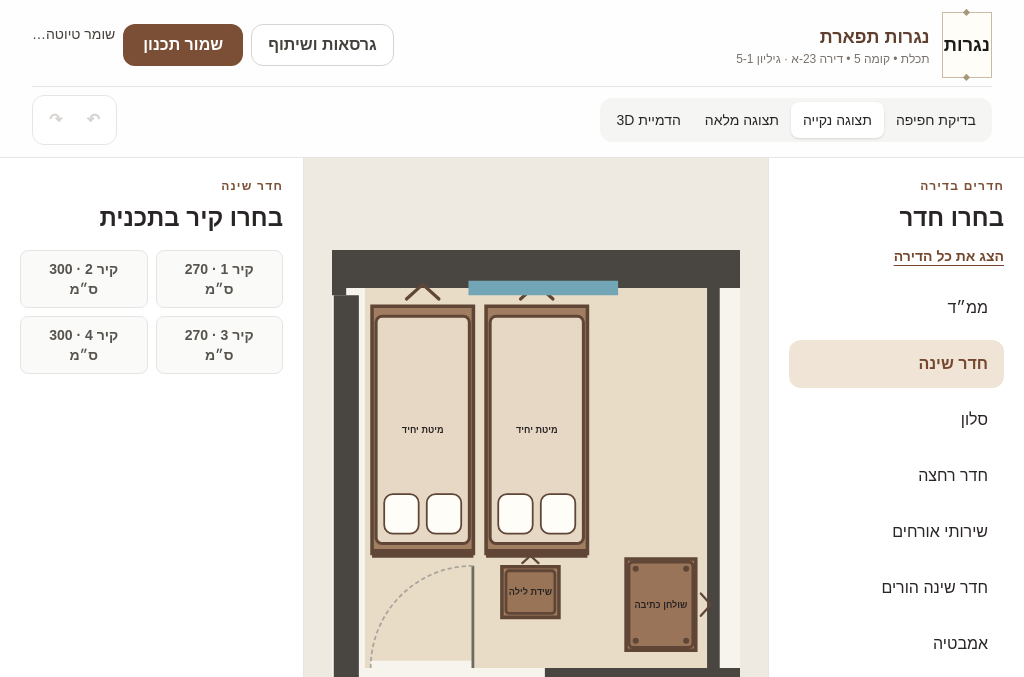
Tiferet planner UI › שומר כמה גרסאות בשם ומציג אותן בספריית התכנון
Click the button "גרסאות ושיתוף" at x=322, y=45, box [251, 24, 394, 66]
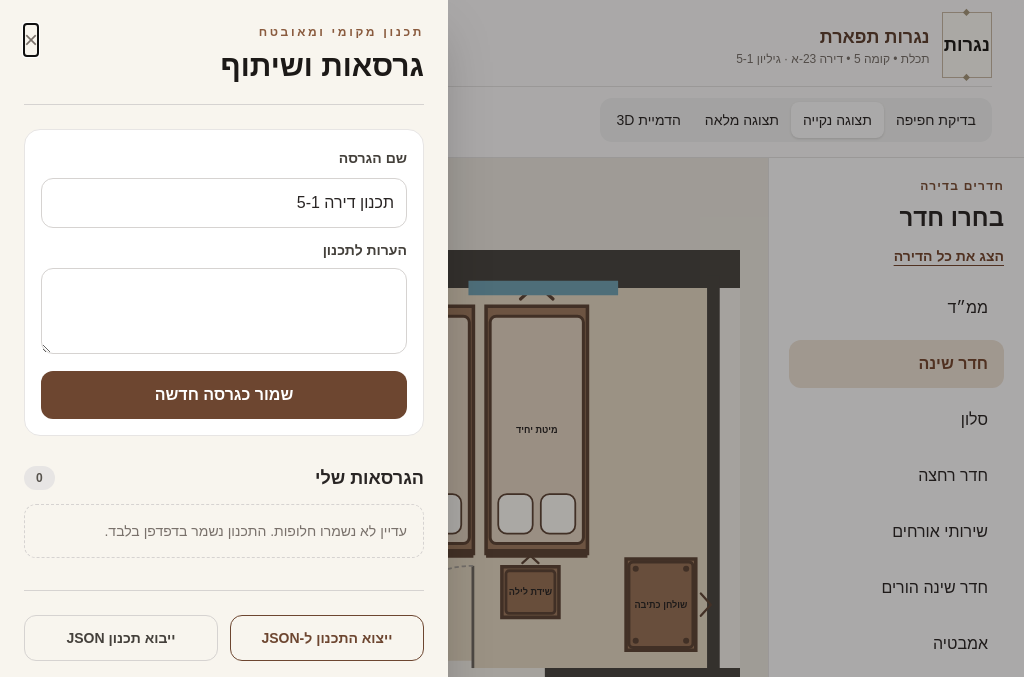
Replace the text in the field labelled "שם הגרסה" with "חלופה חמה" at x=224, y=203, box [41, 178, 407, 228]
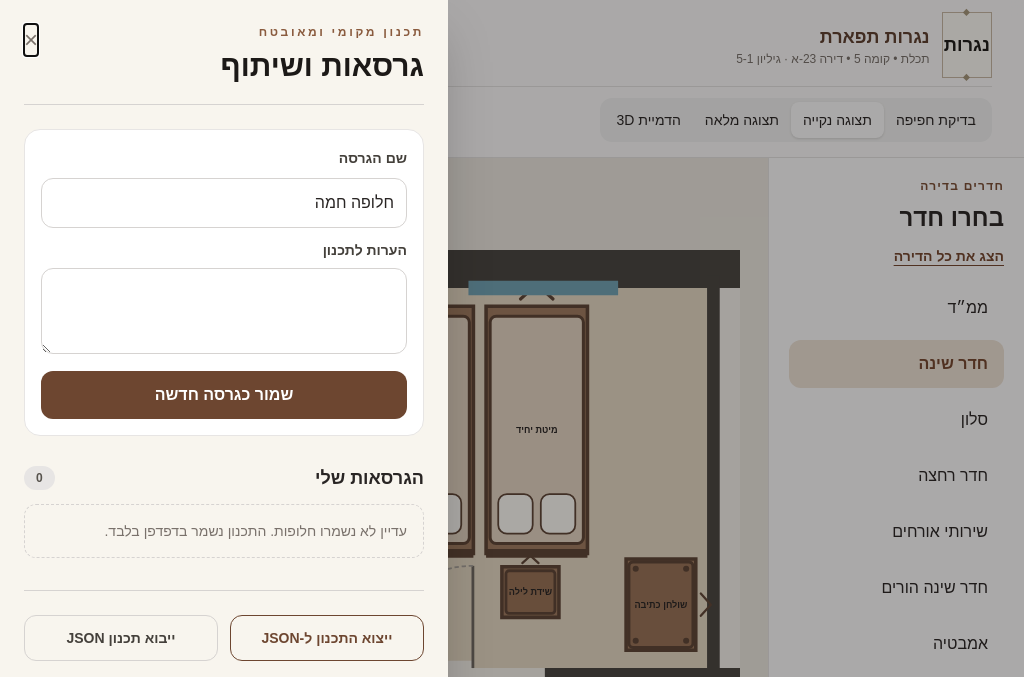
Click the button "שמור כגרסה חדשה" at x=224, y=395, box [41, 371, 407, 419]
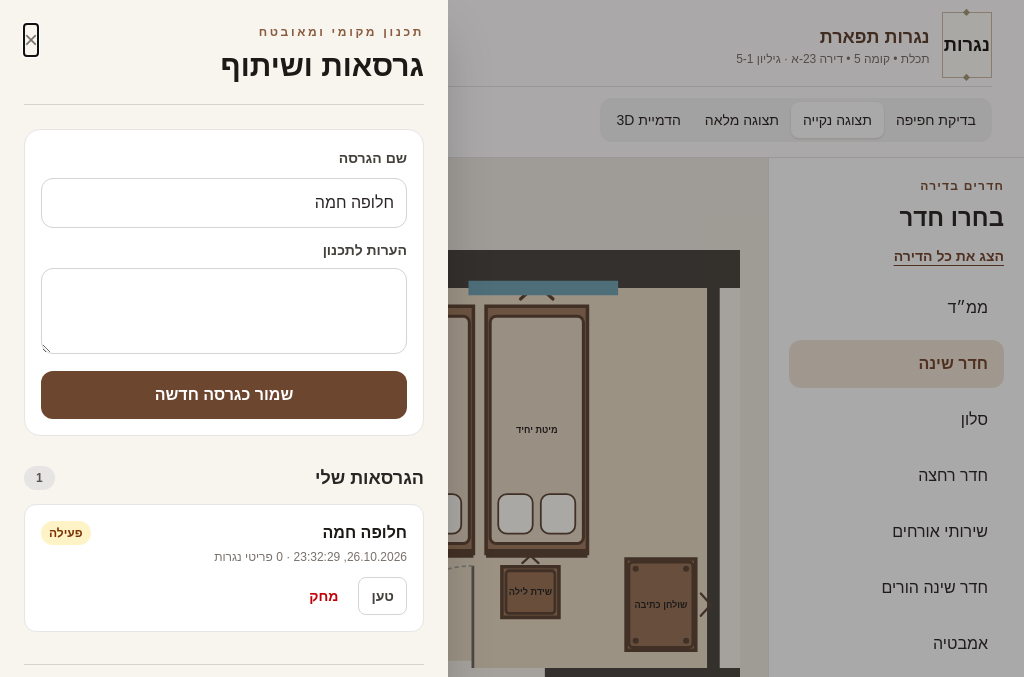
expect the text "חלופה חמה" is shown: met, box [322, 524, 407, 541]
Replace the text in the field labelled "שם הגרסה" with "חלופה בהירה" at x=224, y=203, box [41, 178, 407, 228]
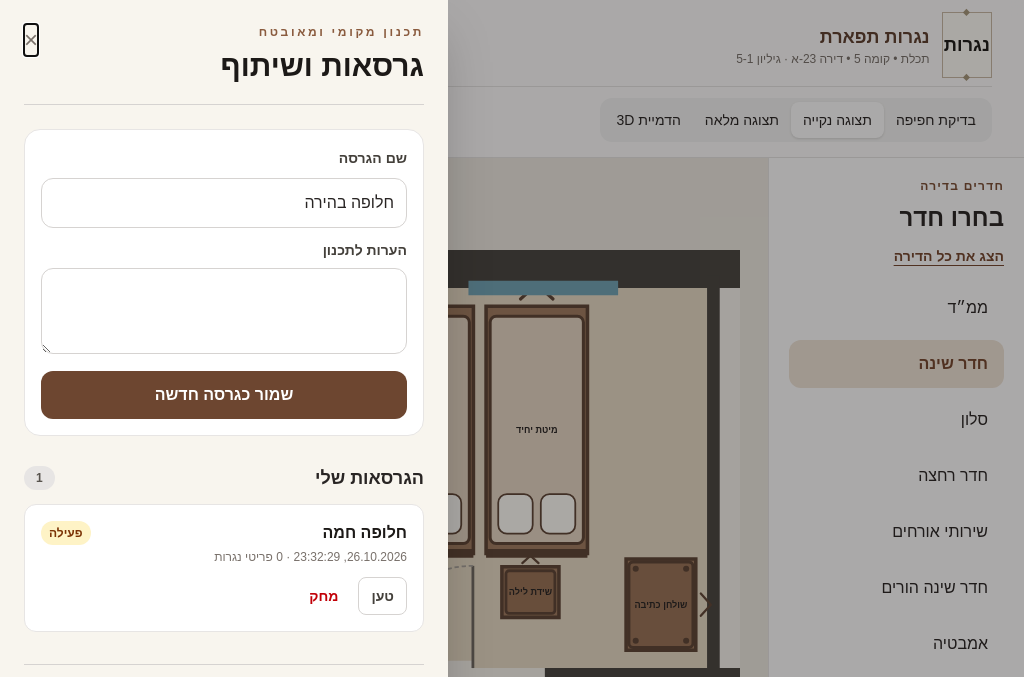
Click the button "שמור כגרסה חדשה" at x=224, y=395, box [41, 371, 407, 419]
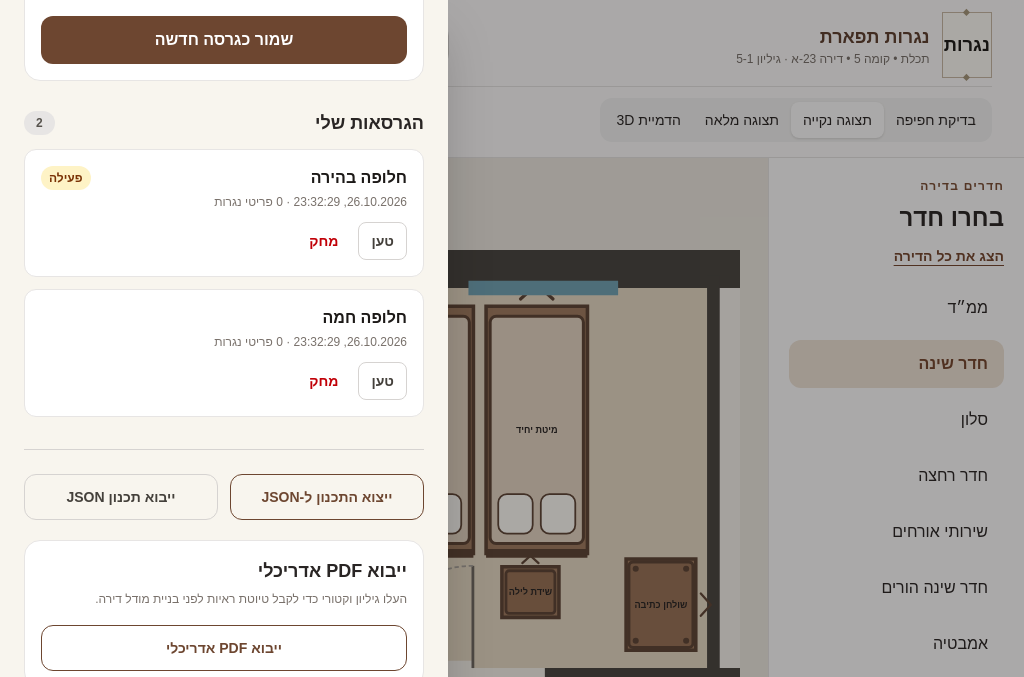
expect the button "ייצוא התכנון ל‑JSON" is enabled: met, box [230, 474, 424, 520]
expect the text "חלופה בהירה" is shown: met, box [311, 169, 407, 186]
expect the number of buttons named "טען גרסה" is 2: met, box [358, 222, 407, 260]; [358, 362, 407, 400]
